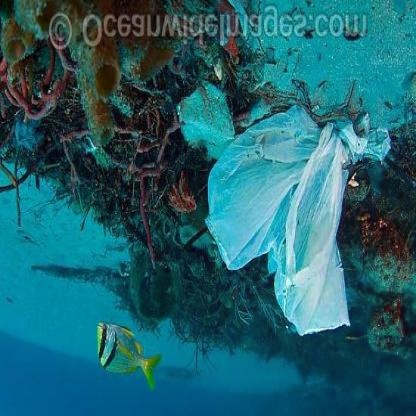pbag: (204, 102, 391, 338)
